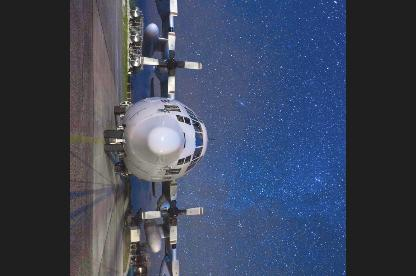Be200: (102, 0, 219, 275)
